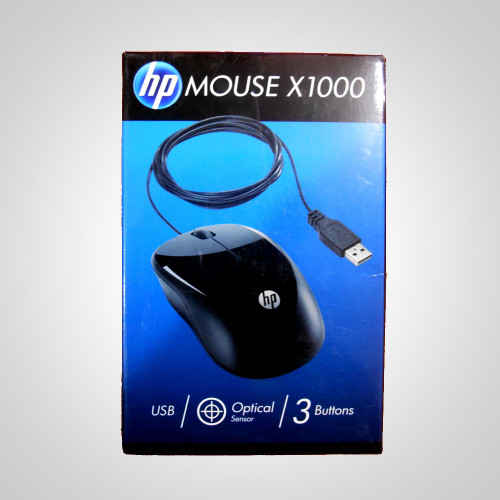hp-mouse-X1000: (137, 123, 369, 381)
